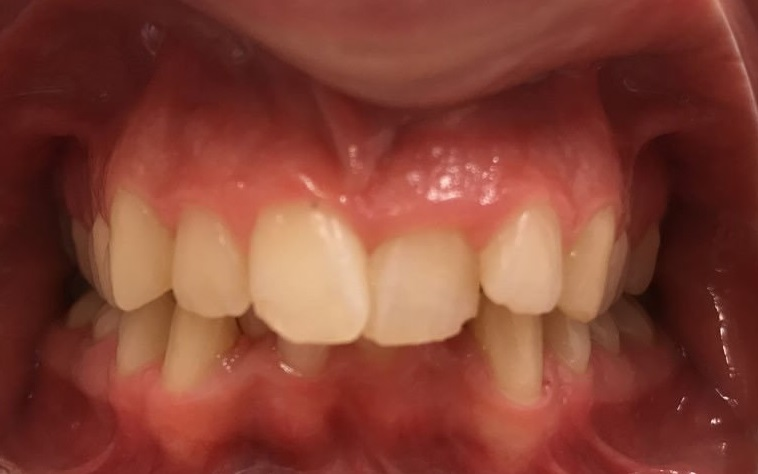LL1BC_healthy: (593, 319, 620, 356)
LL2BC_healthy: (619, 302, 654, 343)
LLC_healthy: (546, 320, 590, 374)
LLLI_healthy: (482, 312, 543, 399)
LR1BC_healthy: (116, 311, 167, 372)
LR1M_healthy: (65, 296, 94, 325)
LR2BC_healthy: (92, 307, 113, 339)
LRC_healthy: (161, 316, 239, 387)
UL1BC_healthy: (610, 232, 627, 312)
UL2BC_healthy: (630, 225, 659, 295)
ULCI_healthy: (372, 230, 477, 345)
ULC_healthy: (565, 208, 610, 321)
ULLI_healthy: (479, 209, 564, 314)
UR1BC_healthy: (89, 219, 109, 305)
UR2BC_healthy: (73, 221, 91, 278)
URCI_healthy: (249, 201, 369, 342)
URC_healthy: (110, 192, 172, 312)
URLI_healthy: (172, 208, 249, 317)
